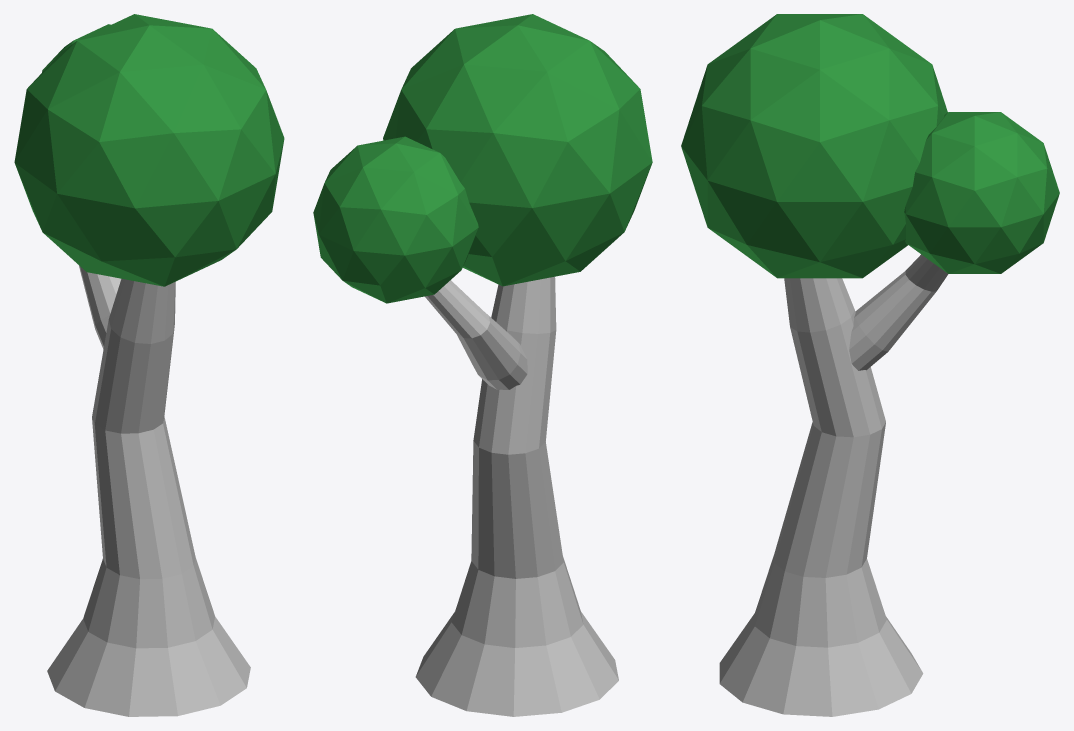
The model's file is tree.fbx.
3 views of the same model, side by side, from view 1: azimuth 30°, elevation 25°; view 2: azimuth 150°, elevation 25°; view 3: azimuth 270°, elevation 25° (orthographic).
Parts seen in each view (by area): view 1: Cylinder.006; view 2: Cylinder.006; view 3: Cylinder.006.
Part boxes in pixels (bbox=[...]): Cylinder.006: bbox=[14, 14, 284, 716]; Cylinder.006: bbox=[313, 14, 652, 716]; Cylinder.006: bbox=[681, 14, 1059, 716].
Bounding box in the file's own units: 106 × 287 × 151.
